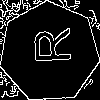R: (24, 27, 72, 65)
